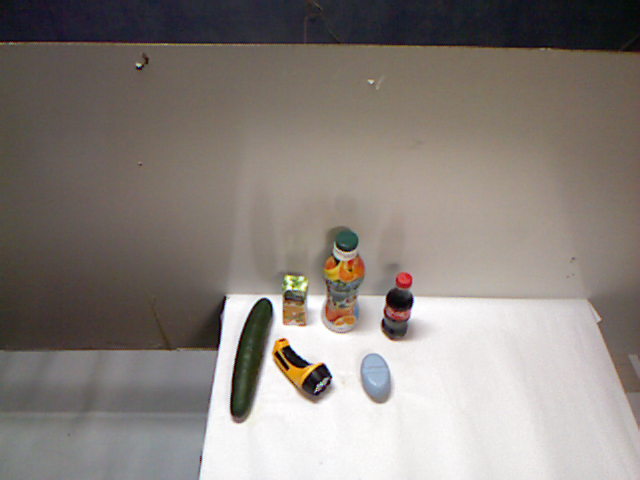cubix: (228, 359, 268, 408)
durazno: (379, 292, 432, 358)
harina: (236, 278, 307, 357)
linterna: (420, 339, 476, 407)
papas: (322, 248, 374, 360)
platano: (298, 362, 403, 417)
